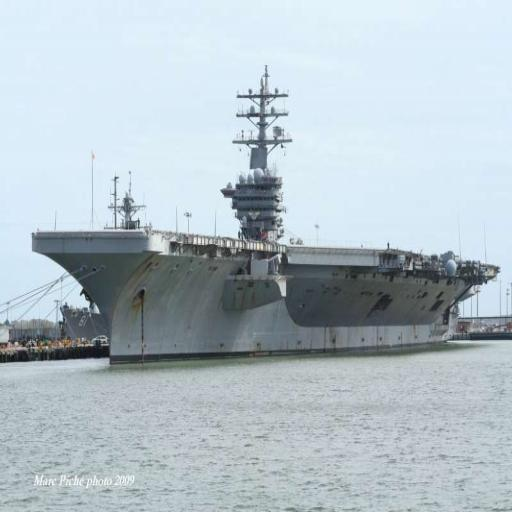Portanaves: (29, 57, 503, 368)
